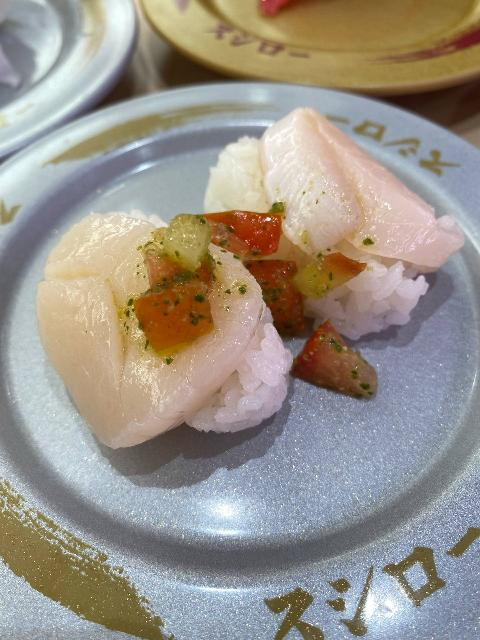jangold: (141, 0, 480, 107)
janwhite: (6, 90, 480, 640), (0, 8, 140, 134)
